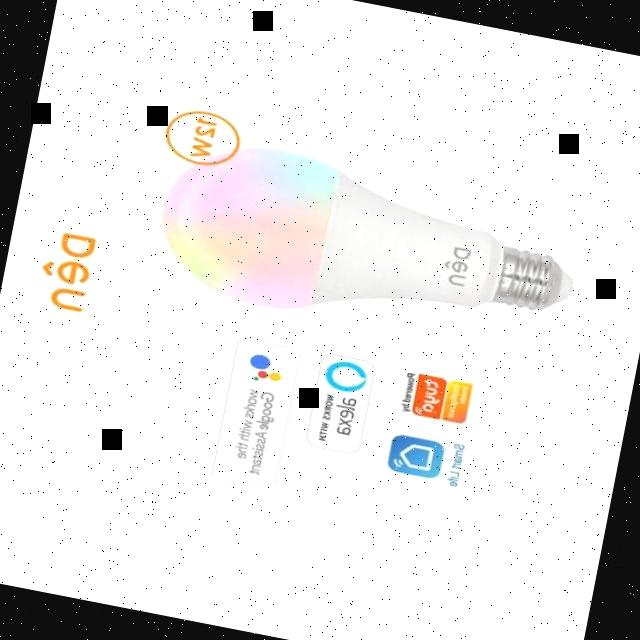light_bulb: (132, 112, 614, 376)
